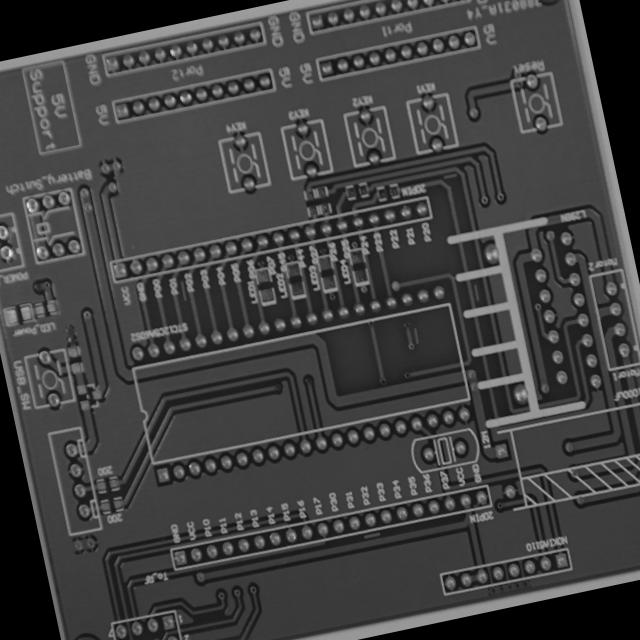spurious_copper: (466, 276, 486, 305), (172, 276, 192, 304), (359, 525, 386, 544), (438, 166, 462, 187), (406, 322, 424, 348)
